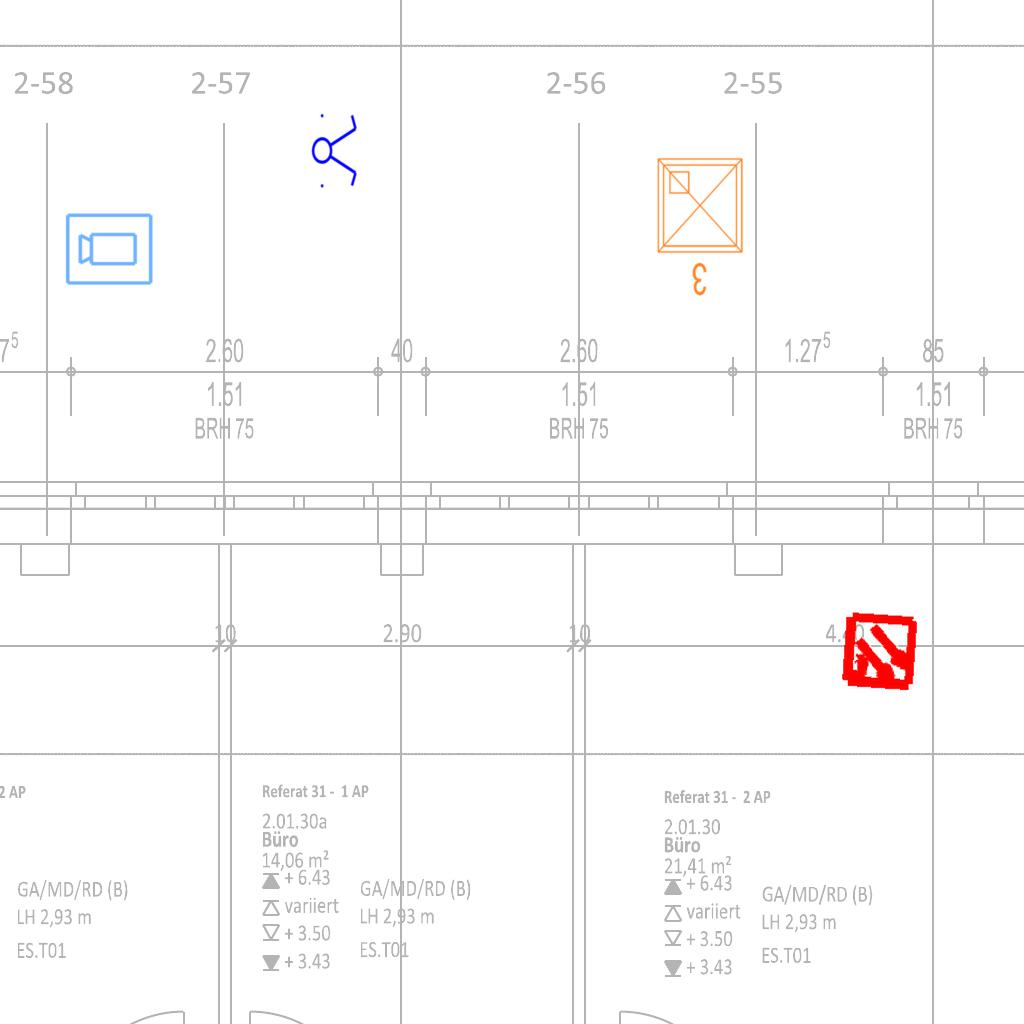Einbaudownlights_LED_Konferenzraeume: (650, 151, 754, 301)
KFO_Kamera_mit_Festobjektiv: (64, 210, 155, 287)
OT_Multisensormelder_(Kombination_RMO_WMD): (819, 593, 940, 714)
Serienschalter: (311, 108, 359, 192)
